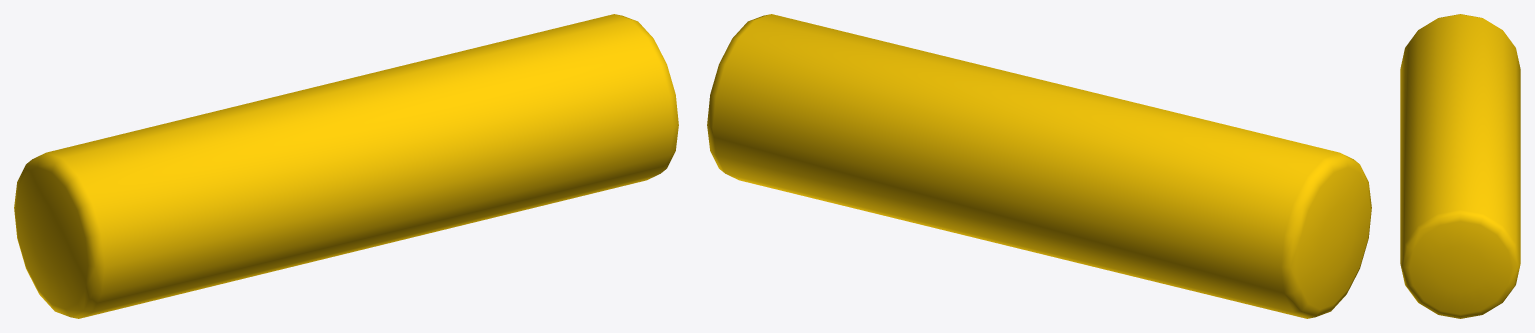
File: bumper.fbx
The picture shows the model from 3 angles, left to right: view 1: azimuth 30°, elevation 25°; view 2: azimuth 150°, elevation 25°; view 3: azimuth 270°, elevation 25°; orthographic projection. The views are drawn at different scales.
Parts seen in each view (by area): view 1: BigBumper; view 2: BigBumper; view 3: BigBumper.
Boxes of the visible parts, x1,y1,x2,y2 form: BigBumper: [14, 14, 678, 318]; BigBumper: [707, 14, 1371, 318]; BigBumper: [1400, 14, 1520, 318].
Size of the model in its own units: 1.94 by 0.4758 by 0.4758.
1 material, 1 textured.
